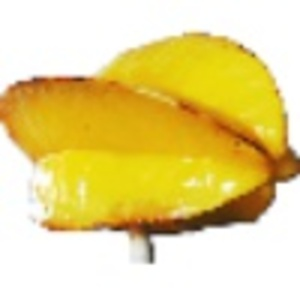carambola: (1, 30, 300, 263)
